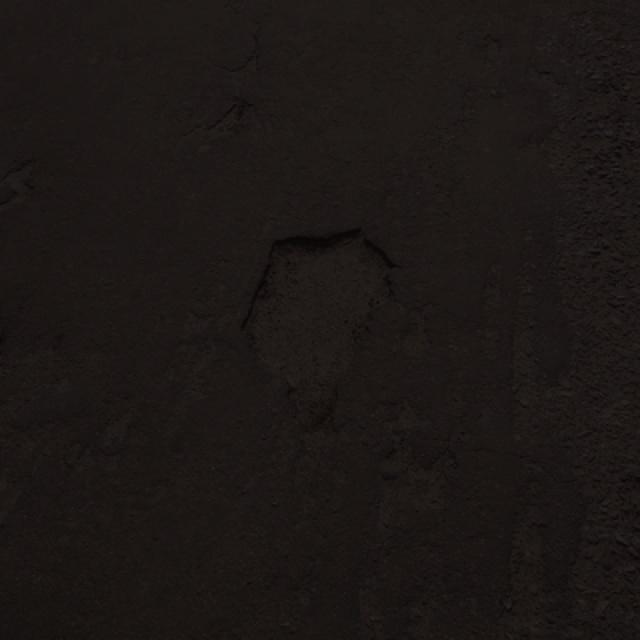Pothole: (233, 223, 405, 444)
